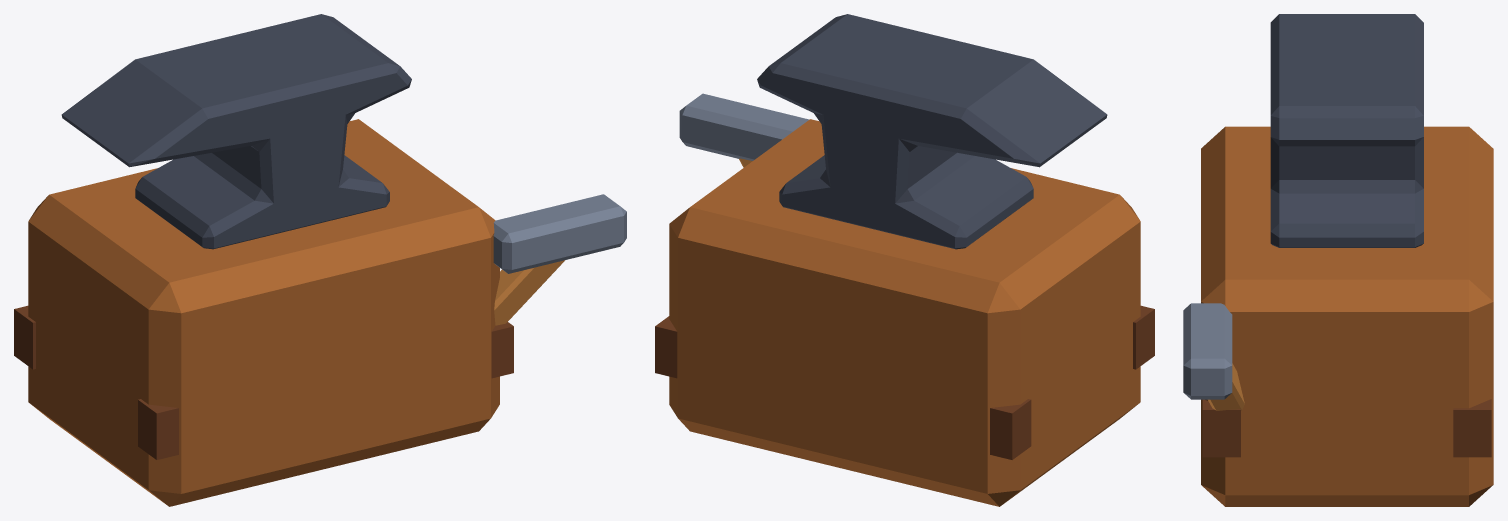
File: AnvilWorkbench.fbx
The picture shows the model from 3 angles, left to right: view 1: azimuth 30°, elevation 25°; view 2: azimuth 150°, elevation 25°; view 3: azimuth 270°, elevation 25°; orthographic projection.
Parts seen in each view (by area): view 1: Anvil_WoodBlock, Anvil_IronBody, Hammer_Head, Anvil_BlockBrace_-0.36, Hammer_Handle, Anvil_BlockBrace_0.36; view 2: Anvil_WoodBlock, Anvil_IronBody, Hammer_Head, Anvil_BlockBrace_0.36, Anvil_BlockBrace_-0.36; view 3: Anvil_WoodBlock, Anvil_IronBody, Hammer_Head, Anvil_BlockBrace_0.36, Anvil_BlockBrace_-0.36, Hammer_Handle.
Boxes of the visible parts, x1,y1,x2,y2 form: Anvil_WoodBlock: (28, 119, 499, 506); Anvil_IronBody: (61, 14, 411, 249); Hammer_Head: (493, 194, 626, 273); Anvil_BlockBrace_-0.36: (138, 322, 513, 459); Hammer_Handle: (494, 260, 564, 325); Anvil_BlockBrace_0.36: (14, 305, 35, 369); Anvil_WoodBlock: (669, 119, 1140, 506); Anvil_IronBody: (757, 14, 1107, 249); Hammer_Head: (679, 93, 809, 160); Anvil_BlockBrace_0.36: (655, 316, 1031, 459); Anvil_BlockBrace_-0.36: (1133, 305, 1154, 369); Anvil_WoodBlock: (1201, 126, 1493, 506); Anvil_IronBody: (1270, 14, 1423, 247); Hammer_Head: (1183, 303, 1232, 399); Anvil_BlockBrace_0.36: (1453, 399, 1491, 457); Anvil_BlockBrace_-0.36: (1202, 399, 1240, 457); Hammer_Handle: (1208, 363, 1244, 410).
Bounding box in the file's own units: 1.56 × 1.17 × 0.89.
